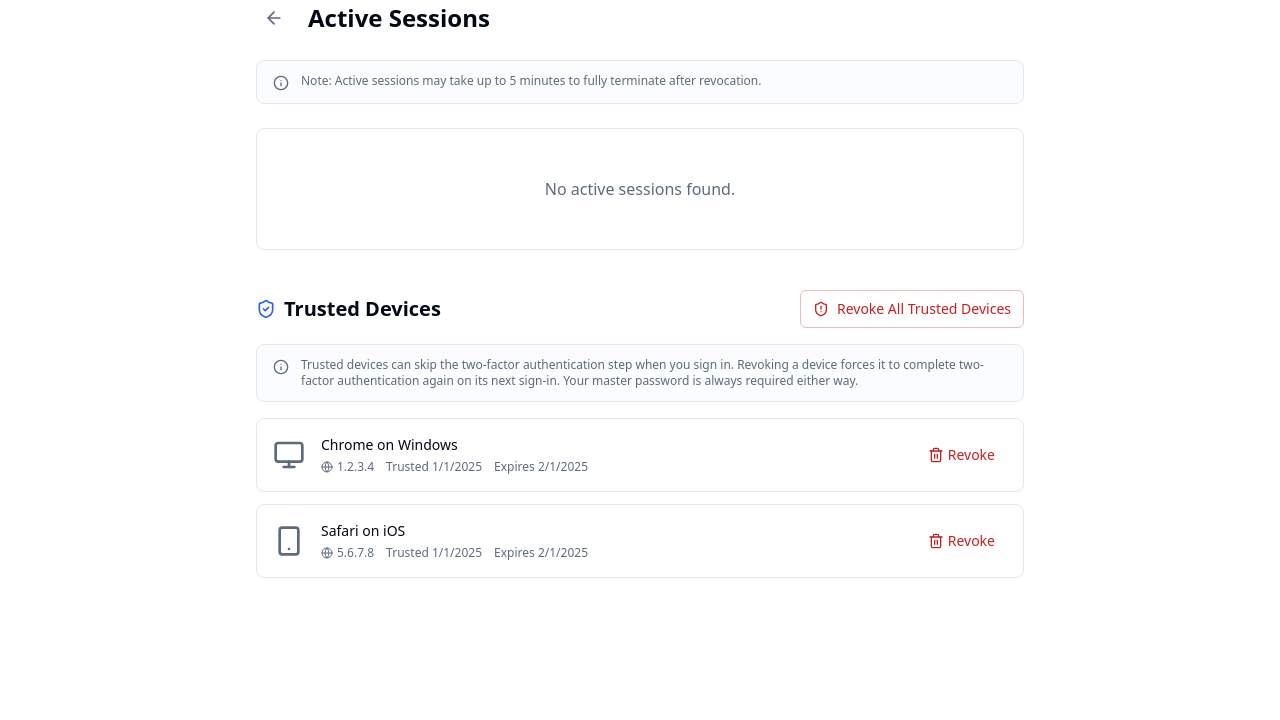
Trusted devices - revoke all › confirming clears the list and shows a success toast
Expected: the text "Chrome on Windows" is shown, [321,435,458,454]
Click the button "Revoke All Trusted Devices".
click(912, 309)  # box [800,290,1024,328]
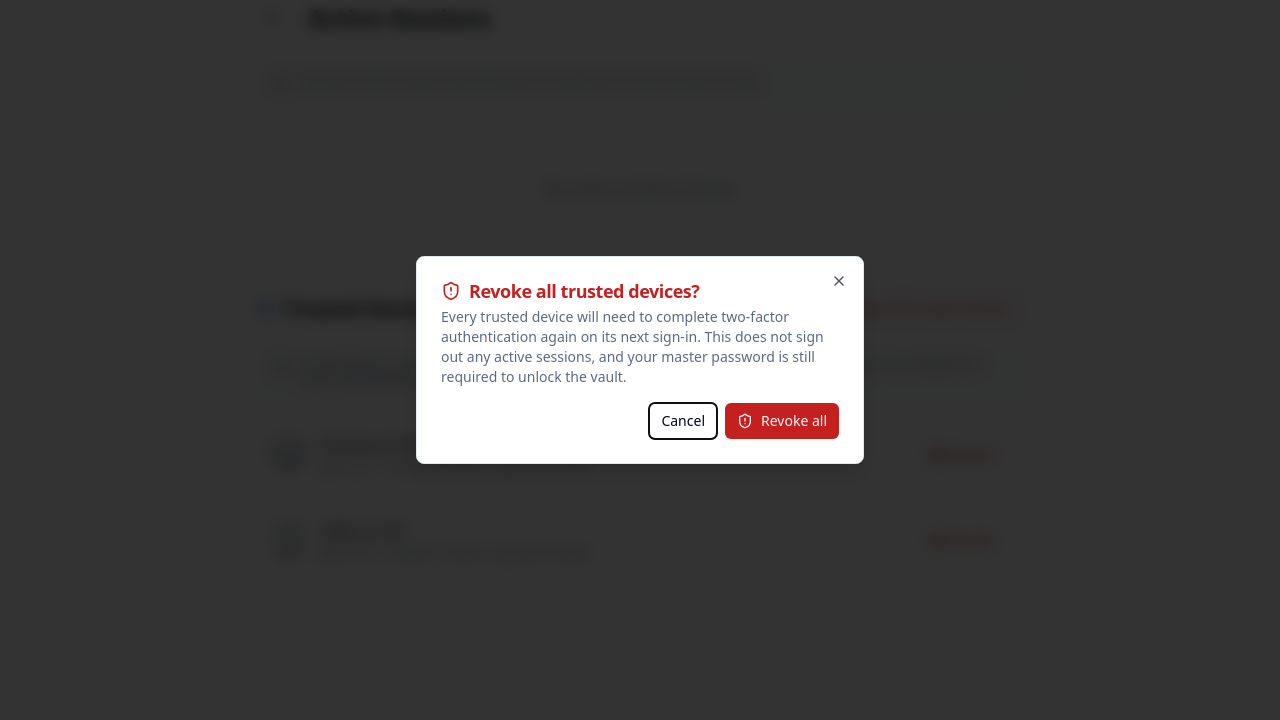
Click the button "Revoke all".
click(782, 421)  # box [725,403,839,439]
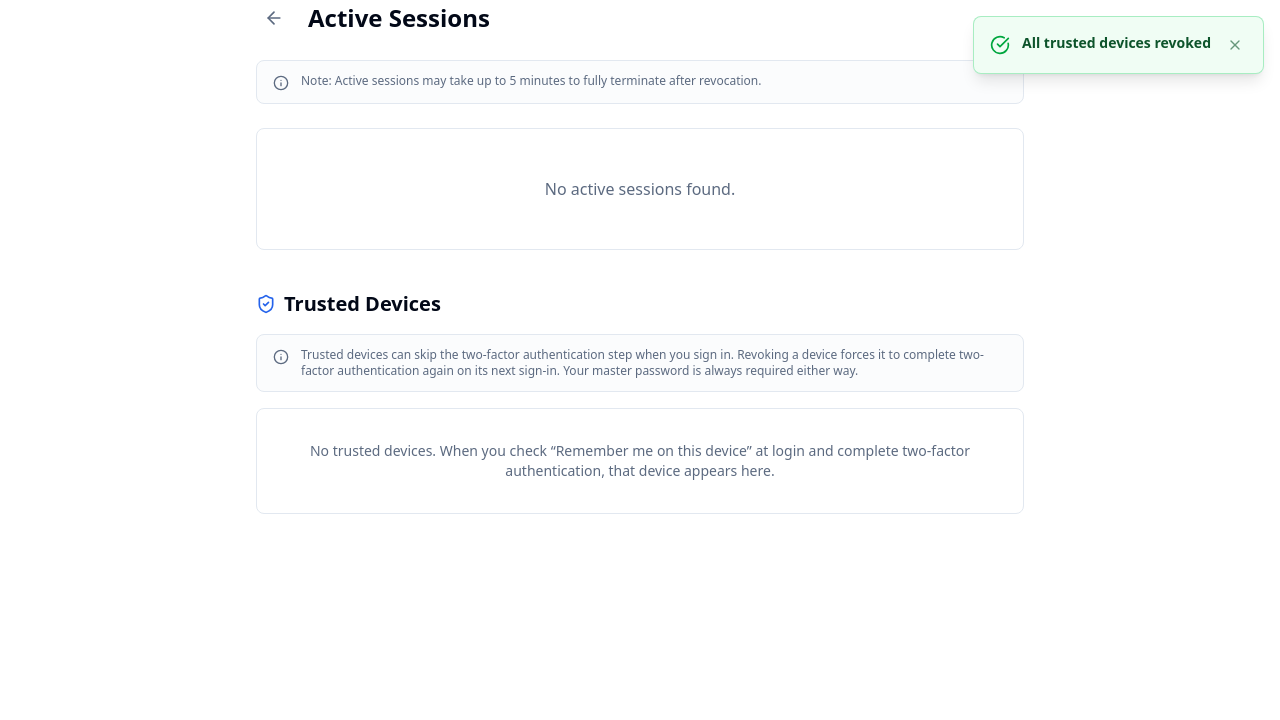
Expected: the text "All trusted devices revoked" is shown, [1022,33,1211,53]
Expected: the dialog is gone
Expected: the text "No trusted devices" is shown, [310,441,970,480]
